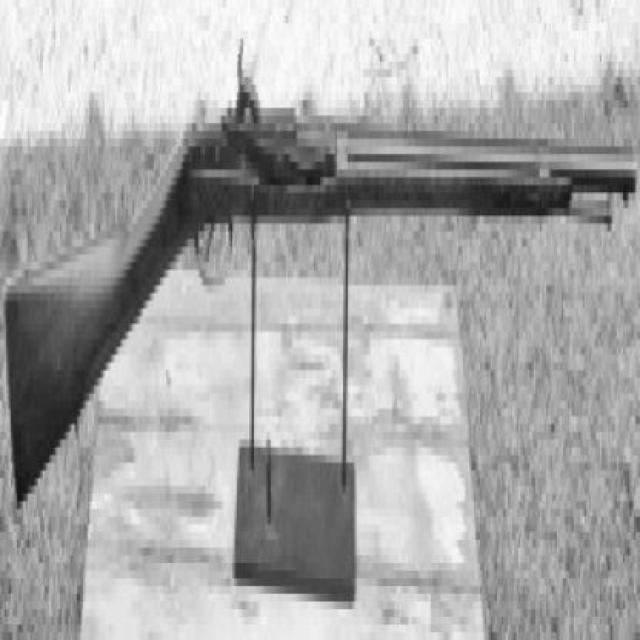weapon: (5, 42, 637, 512)
